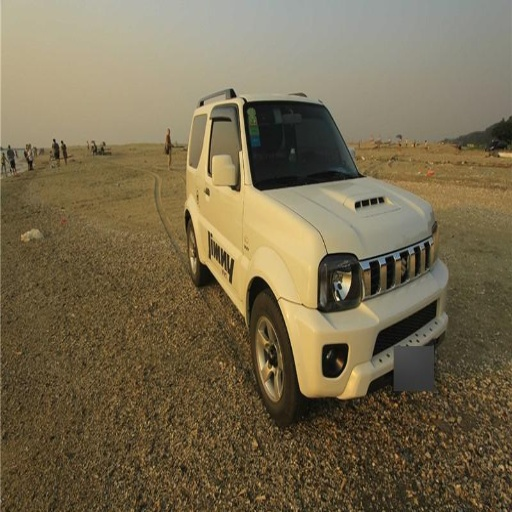front_bumper: (281, 236, 446, 396)
front_right_door: (208, 105, 242, 295)
front_right_light: (304, 256, 365, 310)
